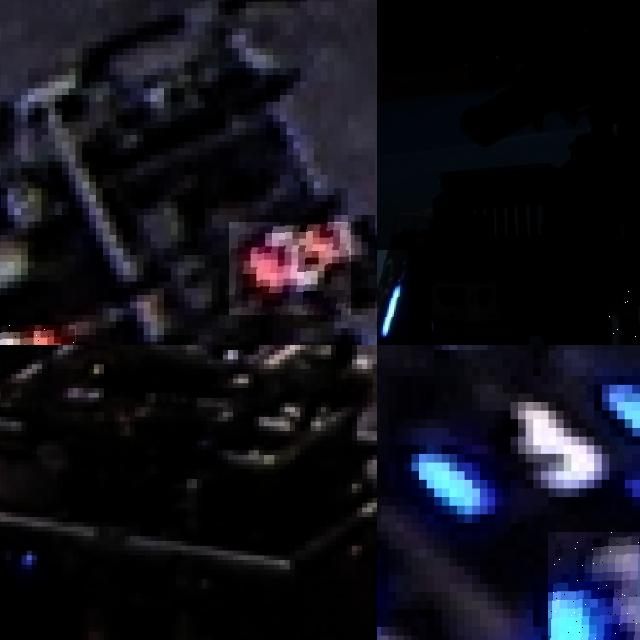B3: (548, 531, 640, 640)
Bs: (377, 250, 408, 343)
R2: (229, 222, 351, 315)
